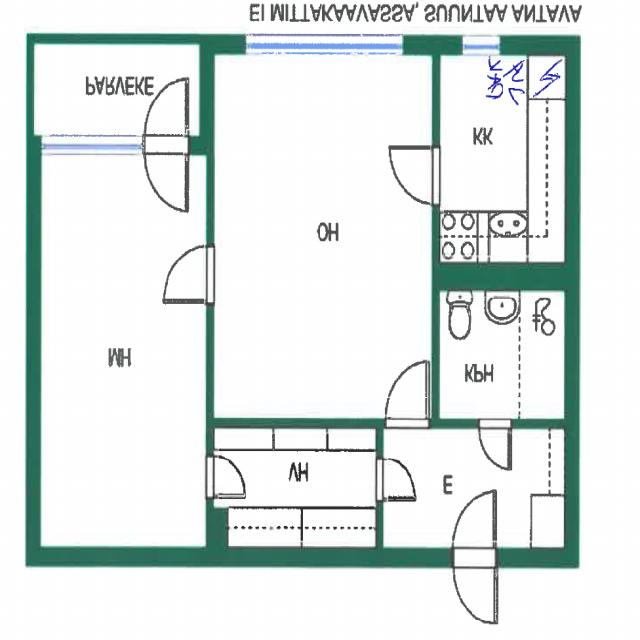door: (144, 76, 188, 155), (144, 135, 188, 213), (453, 490, 495, 567), (453, 547, 495, 623), (162, 245, 214, 303), (385, 359, 428, 428), (388, 147, 438, 205), (478, 417, 512, 474), (375, 456, 417, 501), (206, 454, 246, 496)
